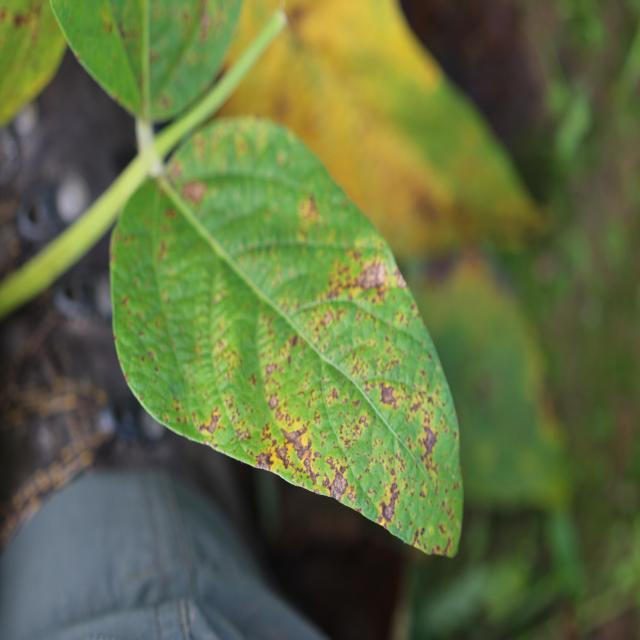Bacterial_Blight: (413, 189, 445, 225), (355, 259, 389, 291), (198, 407, 223, 437), (327, 469, 349, 501), (180, 179, 207, 204), (378, 381, 400, 410), (301, 449, 320, 482), (298, 194, 319, 221), (421, 425, 438, 454), (12, 8, 33, 29), (288, 5, 307, 27), (275, 444, 293, 467), (232, 424, 251, 443), (116, 16, 130, 40), (381, 500, 396, 522), (255, 451, 272, 470), (169, 162, 184, 183), (199, 11, 211, 35), (260, 424, 273, 444), (27, 203, 39, 224), (157, 93, 171, 109), (267, 393, 279, 410), (275, 150, 287, 165), (288, 333, 299, 349), (323, 311, 334, 327), (413, 529, 422, 546), (329, 387, 339, 402), (444, 537, 453, 553), (265, 363, 276, 376), (248, 373, 258, 386), (145, 349, 155, 362), (438, 522, 447, 536), (358, 414, 368, 426), (313, 411, 322, 424), (367, 487, 377, 497), (352, 398, 361, 408), (176, 415, 185, 425), (75, 51, 82, 61), (139, 393, 144, 401)
Soybean: (111, 120, 463, 555)
